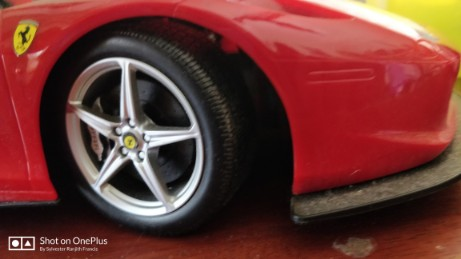unaligned_wheel: (41, 30, 248, 237)
